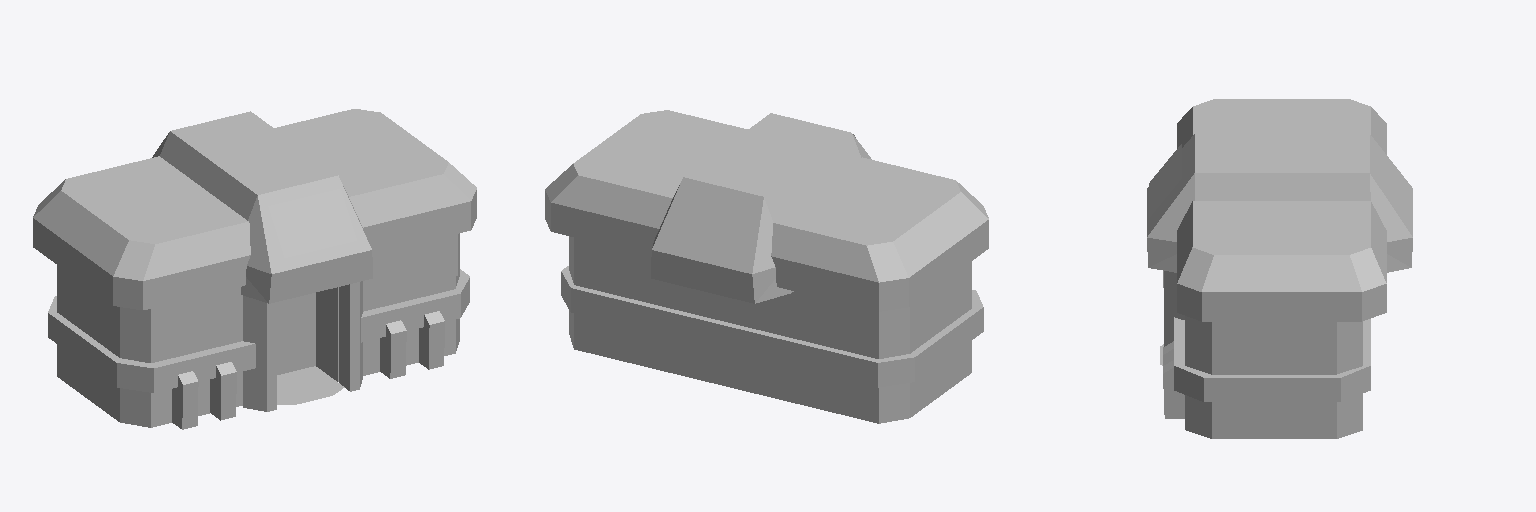
The model's file is Cerulean.obj.
3 renders of one model, left to right at view 1: azimuth 30°, elevation 25°; view 2: azimuth 150°, elevation 25°; view 3: azimuth 270°, elevation 25°, orthographic.
Visible parts, largest first — view 1: polygon0; view 2: polygon0; view 3: polygon0.
Part boxes in pixels (bbox=[...]): polygon0: bbox=[33, 109, 476, 429]; polygon0: bbox=[545, 110, 988, 423]; polygon0: bbox=[1147, 99, 1412, 438].
Size of the model in its own units: 2.66 by 1.43 by 1.69.